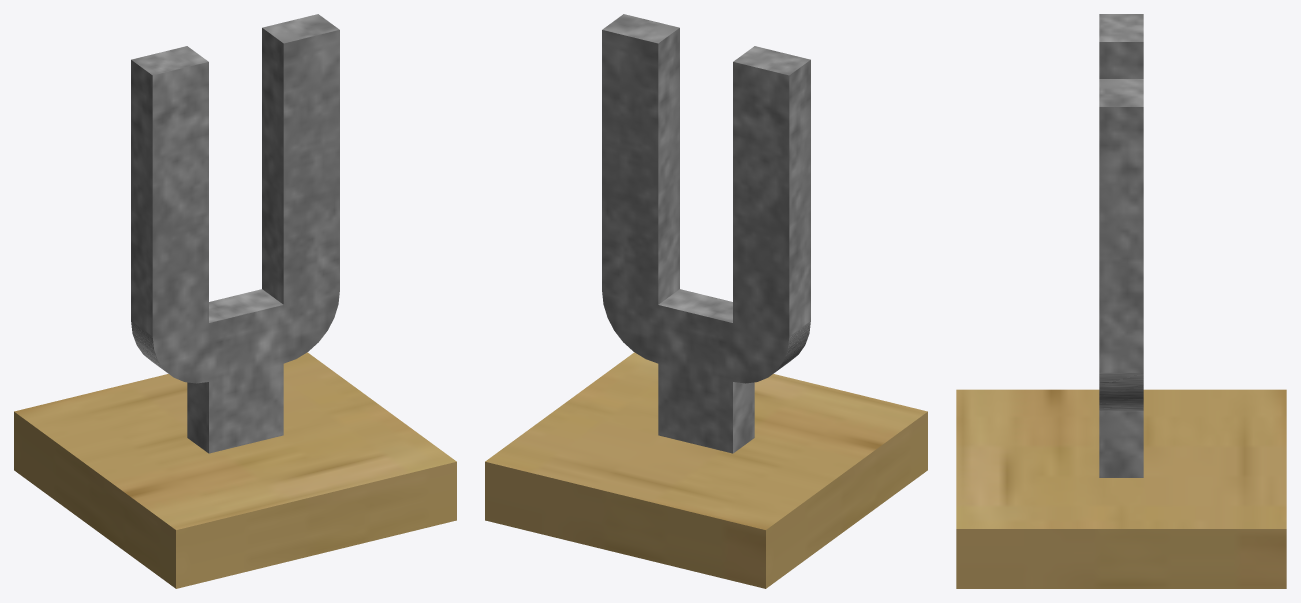
The model's file is fork.obj.
3 views of the same model, side by side, from view 1: azimuth 30°, elevation 25°; view 2: azimuth 150°, elevation 25°; view 3: azimuth 270°, elevation 25° (orthographic).
Visible parts, largest first — view 1: object 2, mesh 1 fork; view 2: object 2, mesh 1 fork; view 3: object 2, mesh 1 fork.
Boxes of the visible parts, box(x1,y1,x2,y2) form: object 2: box(14, 352, 456, 588); mesh 1 fork: box(131, 14, 339, 453); object 2: box(485, 352, 927, 588); mesh 1 fork: box(602, 14, 810, 453); object 2: box(956, 389, 1286, 588); mesh 1 fork: box(1099, 14, 1143, 477).
Bounding box in the file's own units: 0.075 × 0.115 × 0.075.
Materials: 2 (2 with a texture image).
